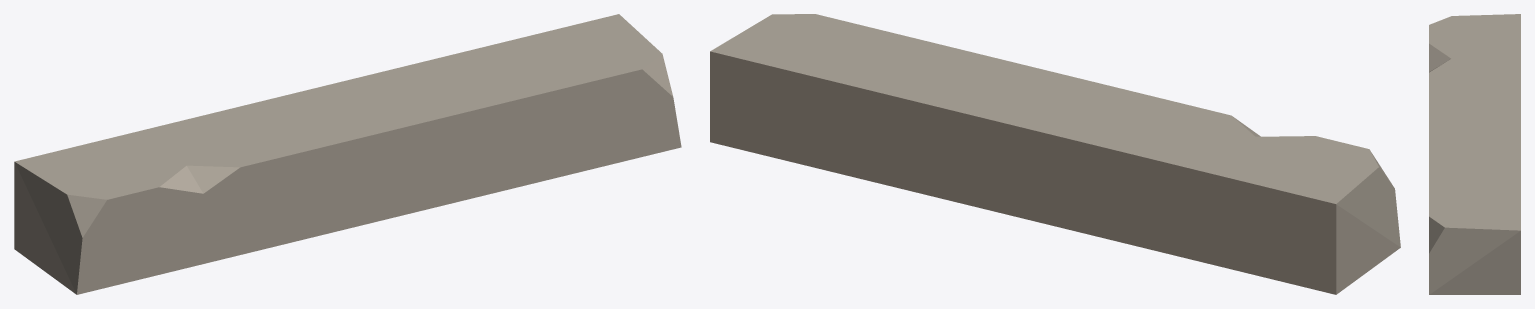
File: SM_Bld_Village_Stairs_Small_01.glb
The picture shows the model from 3 angles, left to right: view 1: azimuth 30°, elevation 25°; view 2: azimuth 150°, elevation 25°; view 3: azimuth 270°, elevation 25°; orthographic projection. The views are drawn at different scales.
Visible parts, largest first — view 1: SM_Bld_Village_Stairs_Small_01; view 2: SM_Bld_Village_Stairs_Small_01; view 3: SM_Bld_Village_Stairs_Small_01.
Boxes of the visible parts, left/top/right/bottom form: SM_Bld_Village_Stairs_Small_01: left=14, top=14, right=681, bottom=294; SM_Bld_Village_Stairs_Small_01: left=710, top=14, right=1400, bottom=294; SM_Bld_Village_Stairs_Small_01: left=1429, top=14, right=1520, bottom=294.
Bounding box in the file's own units: 1.84 × 0.2545 × 0.3288.
1 material, 1 textured.
